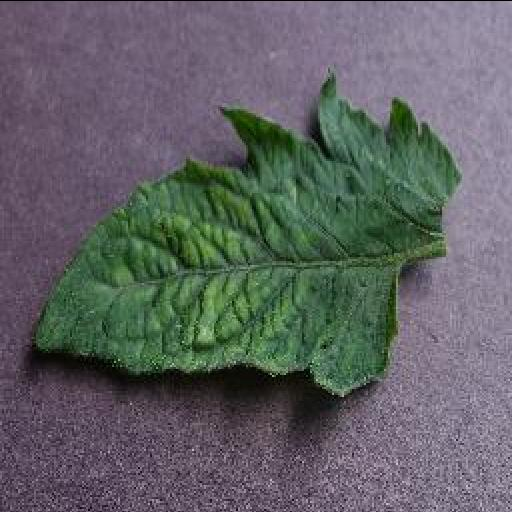Mosaic Virus: (31, 66, 465, 396)
